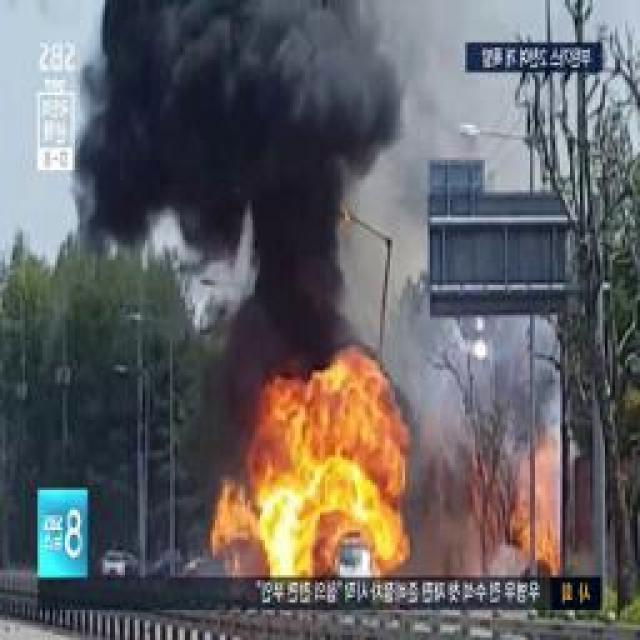Fire: (257, 361, 403, 578), (524, 502, 563, 571)
